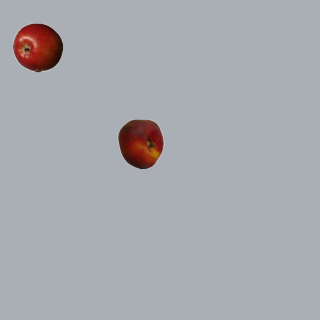Apple Braeburn: (12, 22, 62, 72)
Nectarine Flat: (115, 118, 165, 168)
